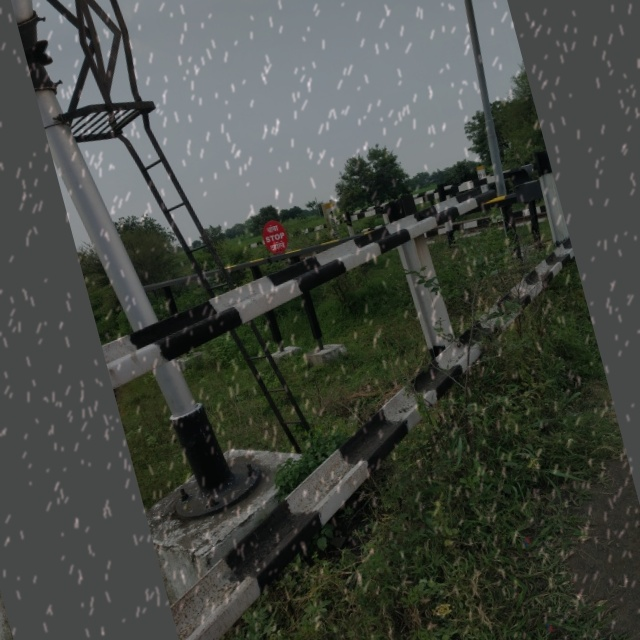Stop: (258, 217, 292, 257)
